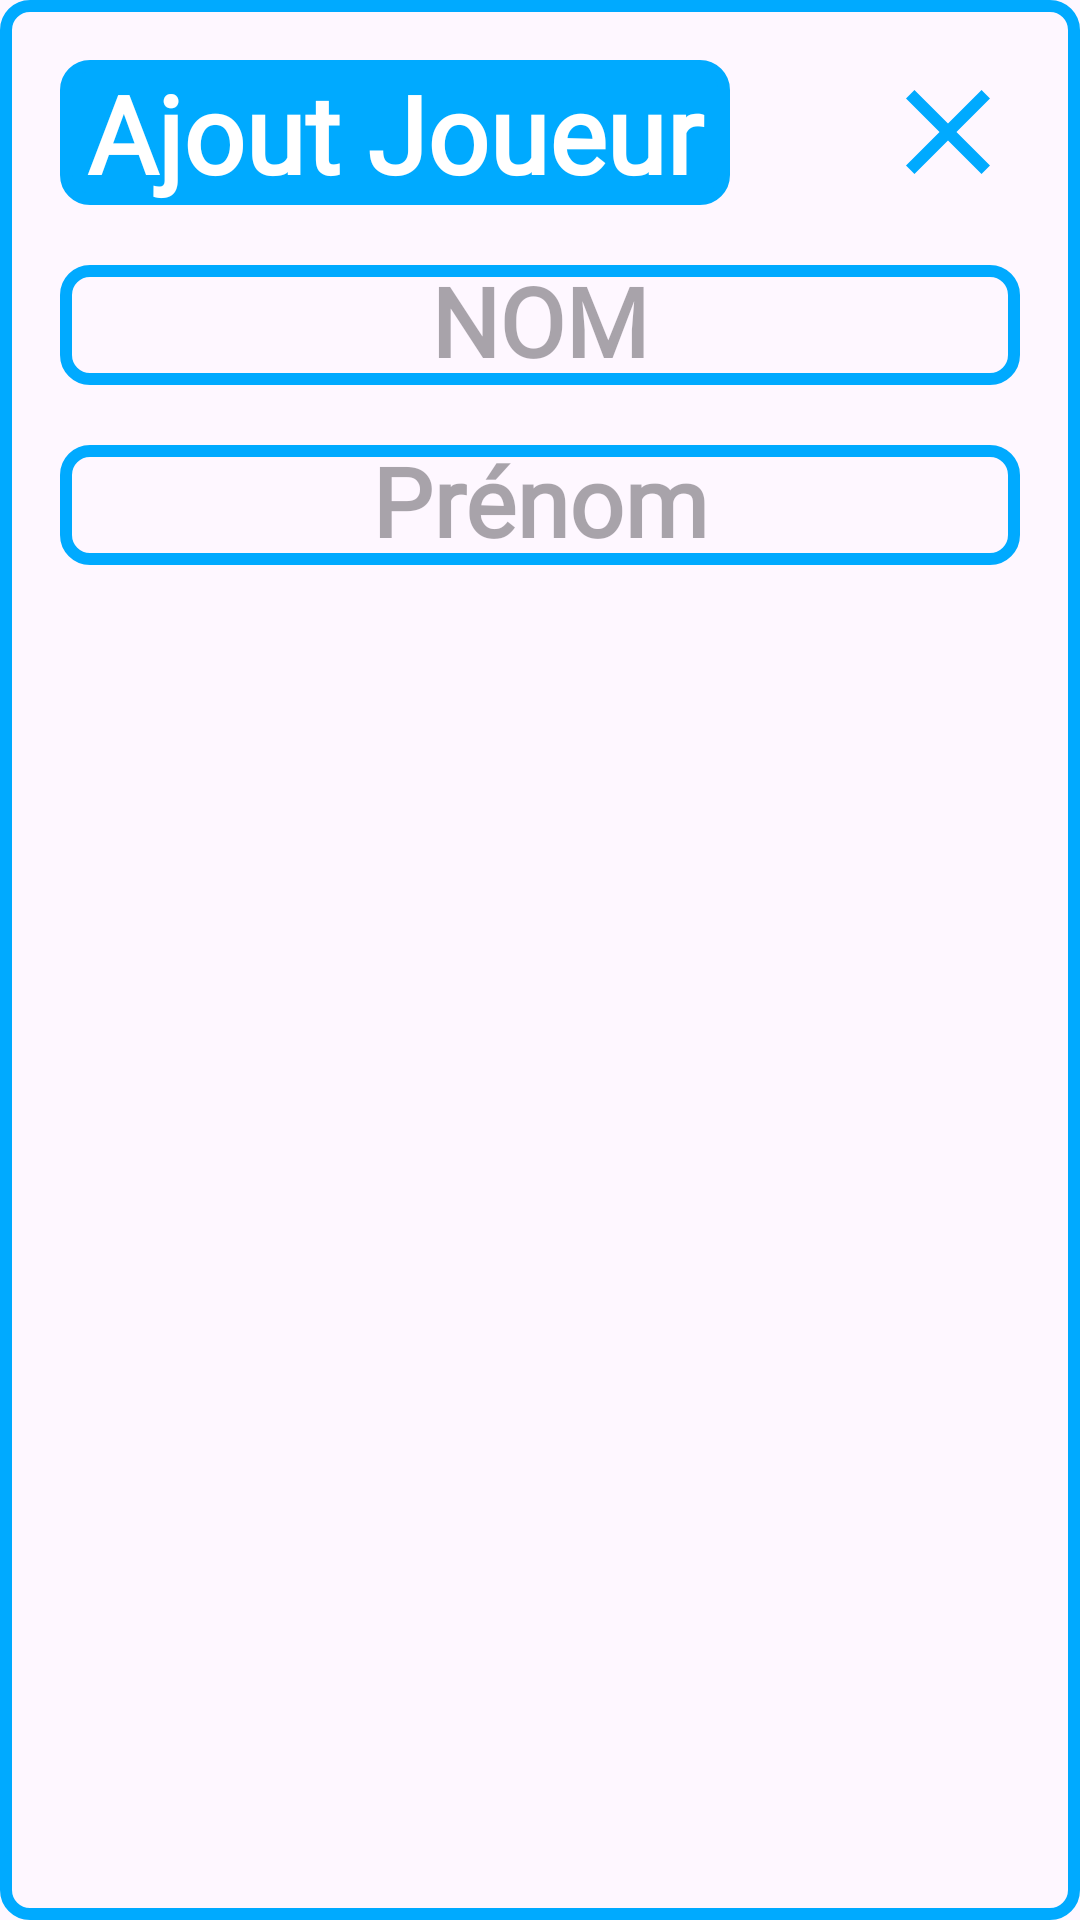

Icons on this 1080px x 1920px Android screen, each with the point to tap as (x=x, y=y):
close: (x=948, y=132)
